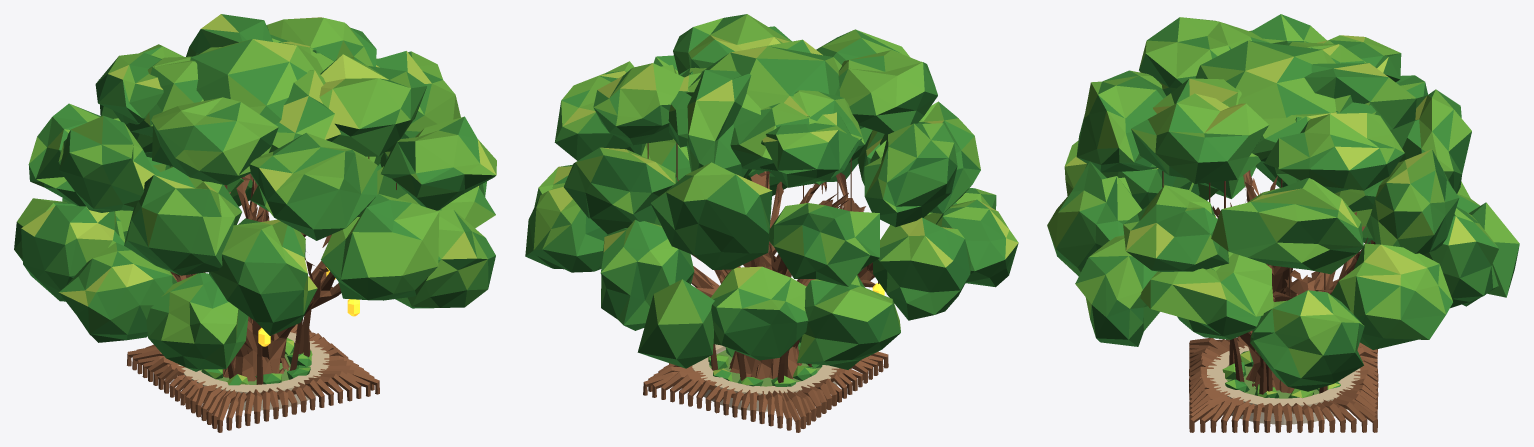
The model's file is tree_banyan.glb.
3 renders of one model, left to right at view 1: azimuth 30°, elevation 25°; view 2: azimuth 150°, elevation 25°; view 3: azimuth 270°, elevation 25°, orthographic. The views are drawn at different scales.
Parts seen in each view (by area): view 1: canopy, body; view 2: canopy, body; view 3: canopy, body.
Part boxes in pixels (<box>): canopy: <box>14,14,496,371</box>; body: <box>127,156,396,432</box>; canopy: <box>525,14,1018,369</box>; body: <box>643,143,888,432</box>; canopy: <box>1047,14,1519,391</box>; body: <box>1162,170,1378,432</box>.
Bounding box in the file's own units: 13.53 × 9.9 × 12.53.
